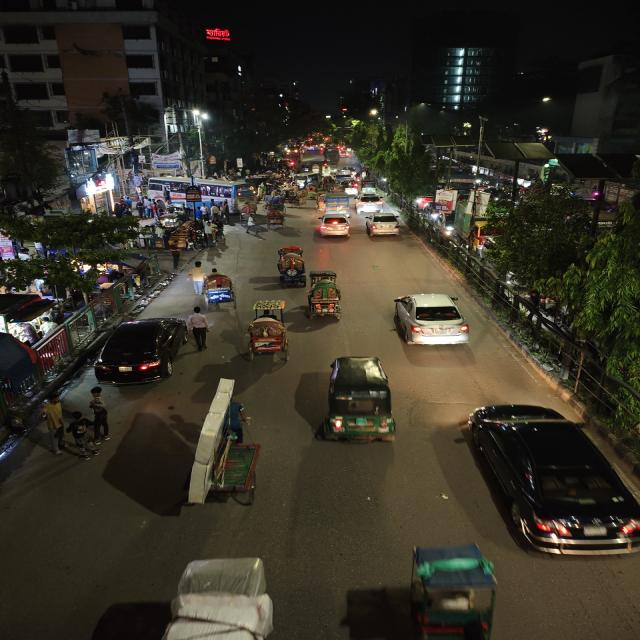bus: (205, 181, 256, 206)
car: (458, 397, 640, 562), (92, 314, 191, 387), (388, 291, 472, 353), (363, 212, 403, 239), (314, 214, 353, 240), (353, 194, 387, 213)
cng: (394, 537, 516, 640), (317, 353, 402, 446), (363, 180, 375, 194)
pedestrian: (38, 394, 69, 456), (62, 411, 92, 454), (86, 401, 113, 447), (187, 306, 211, 351), (184, 259, 208, 294), (166, 238, 187, 268), (211, 223, 230, 250), (203, 245, 224, 269)
rickshaw: (178, 402, 258, 514), (240, 306, 293, 364), (303, 270, 344, 322), (200, 271, 241, 313), (273, 246, 309, 286), (263, 207, 286, 229)
truck: (324, 192, 352, 215)
